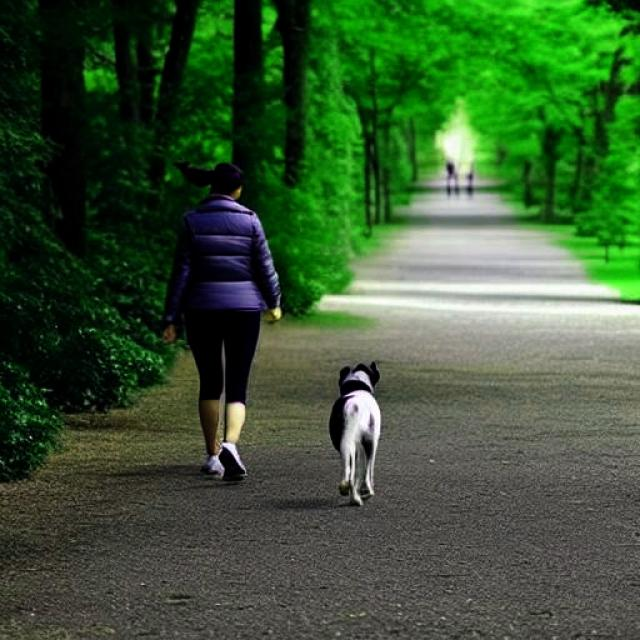Unleashed_Dog: (194, 289, 382, 509)
